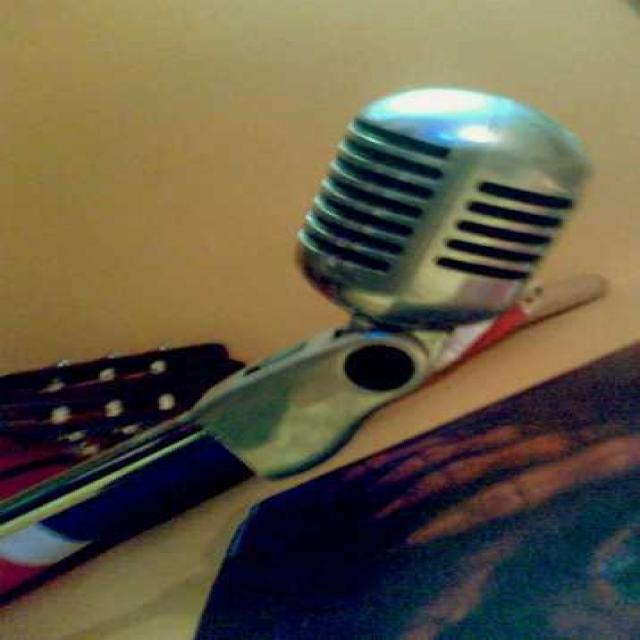microphone: (298, 86, 590, 326)
